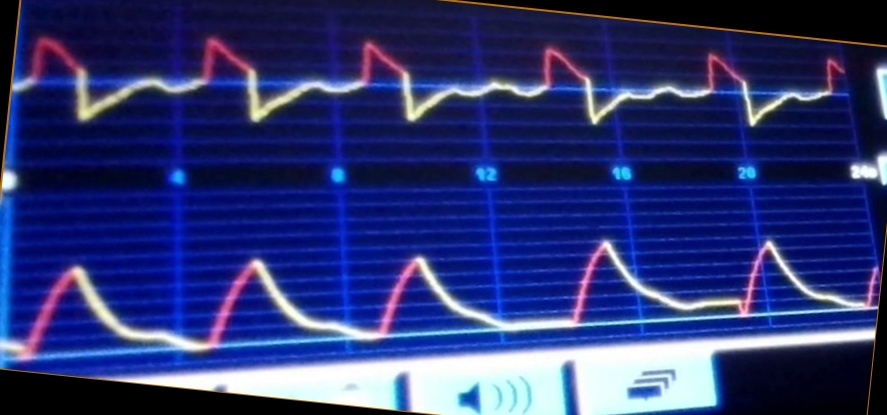Ineffective_effort Flow: (18, 29, 845, 137)
Ineffective_effort Volume: (11, 237, 872, 353)
